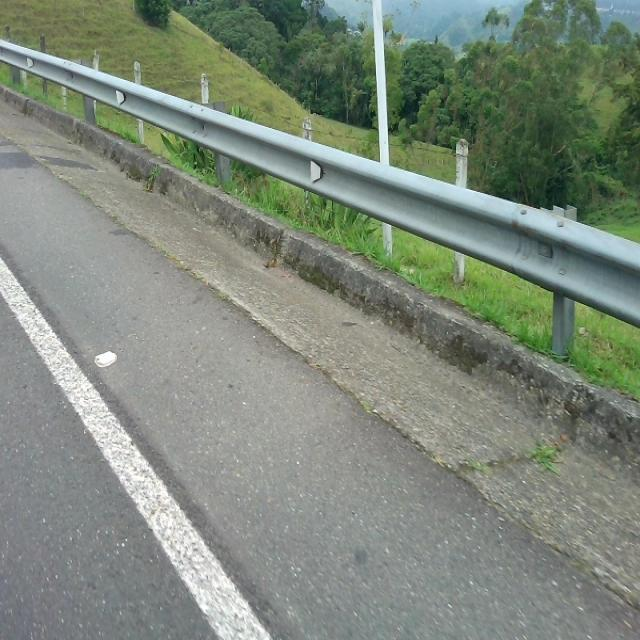DITCH: (2, 0, 638, 639), (1, 88, 639, 637)
